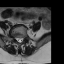CCS_normal: (18, 35, 21, 44)
LFS_normal: (23, 34, 25, 39)
LLS_normal: (21, 36, 23, 42)
RFS_normal: (13, 35, 16, 41)
RLS_normal: (16, 35, 18, 43)
